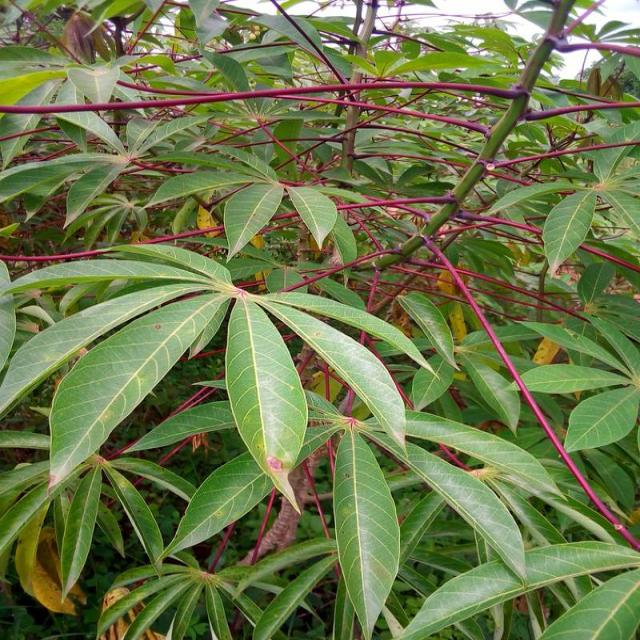cassava leaf: (48, 286, 231, 496), (226, 291, 310, 513), (332, 423, 402, 638)
